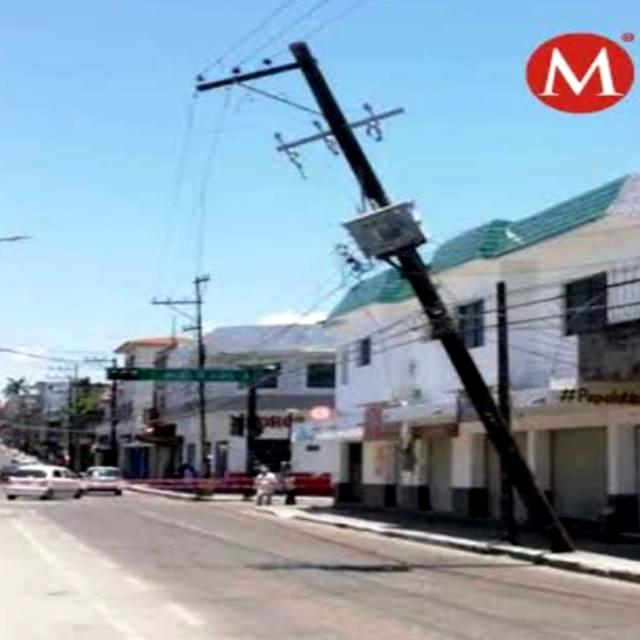Broken Pole: (182, 37, 579, 556)
